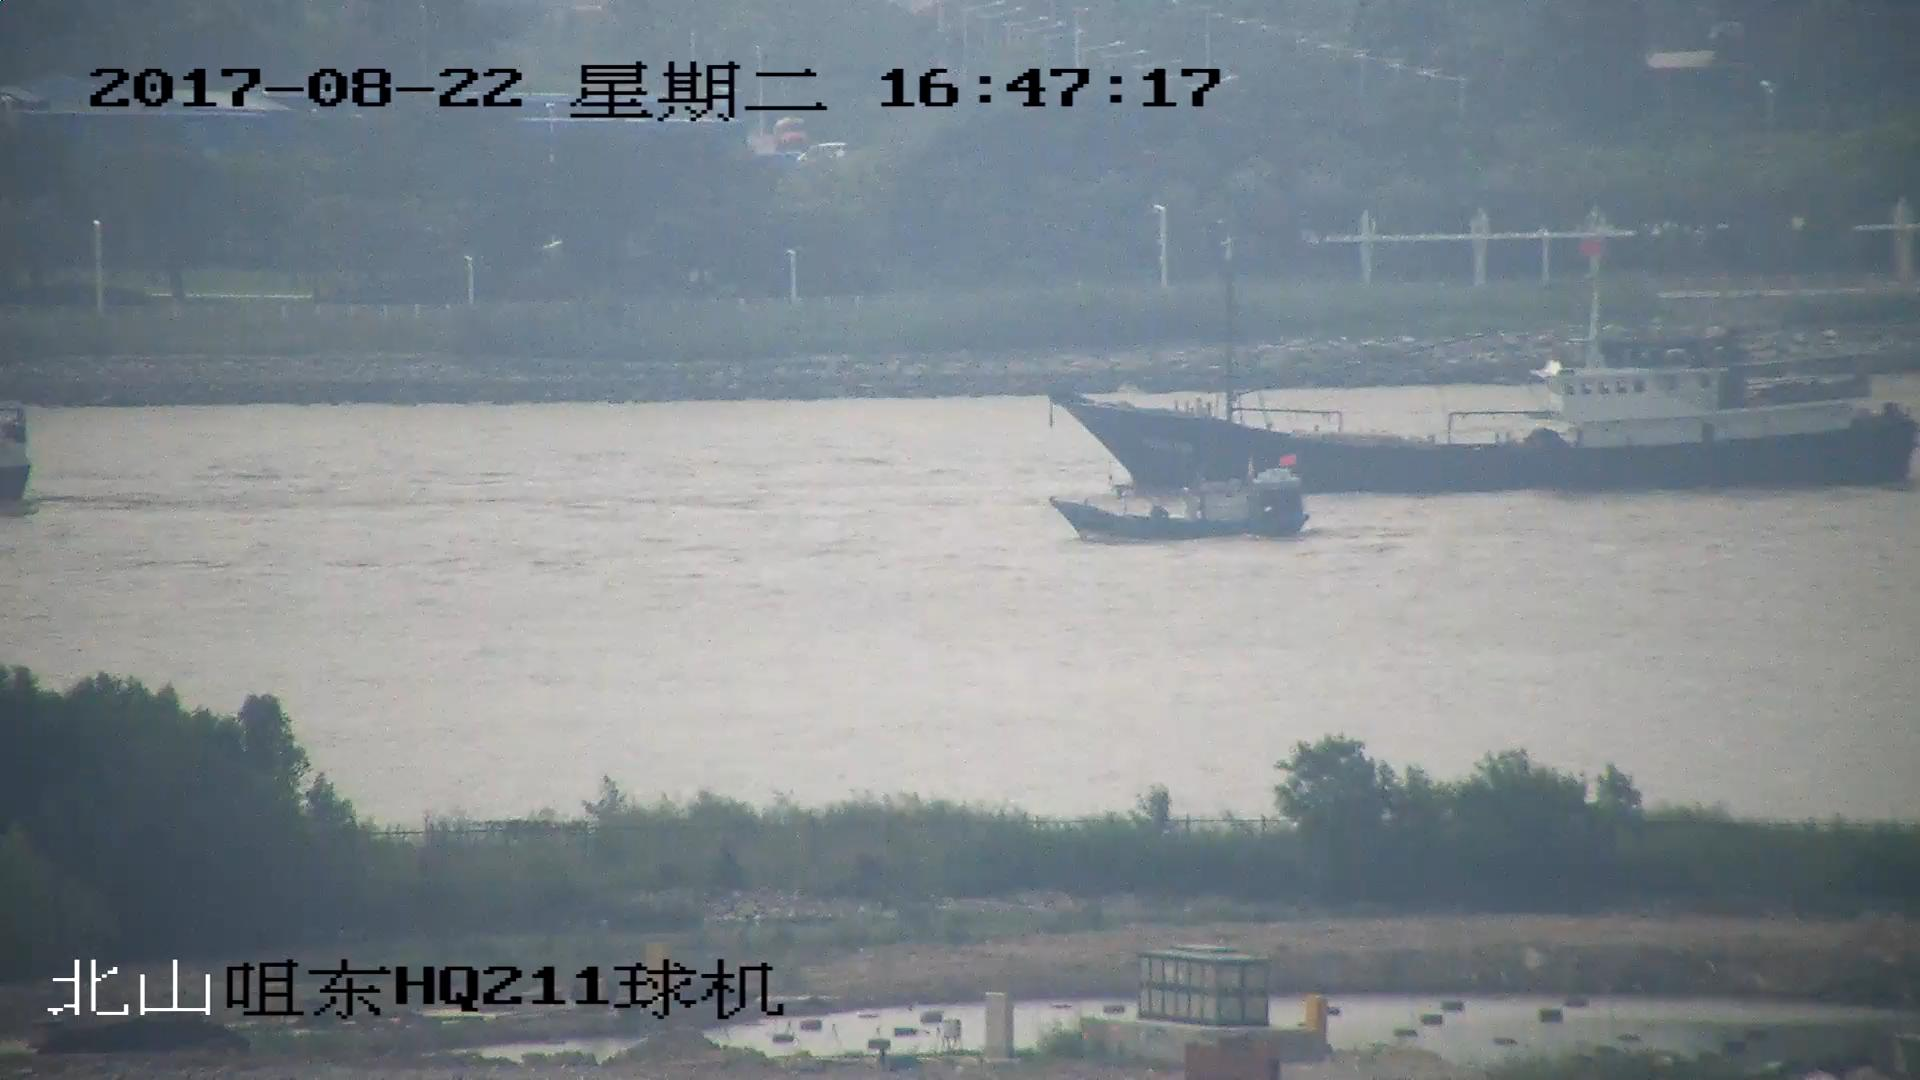fishing boat: (1048, 222, 1916, 497), (1061, 450, 1312, 541)
